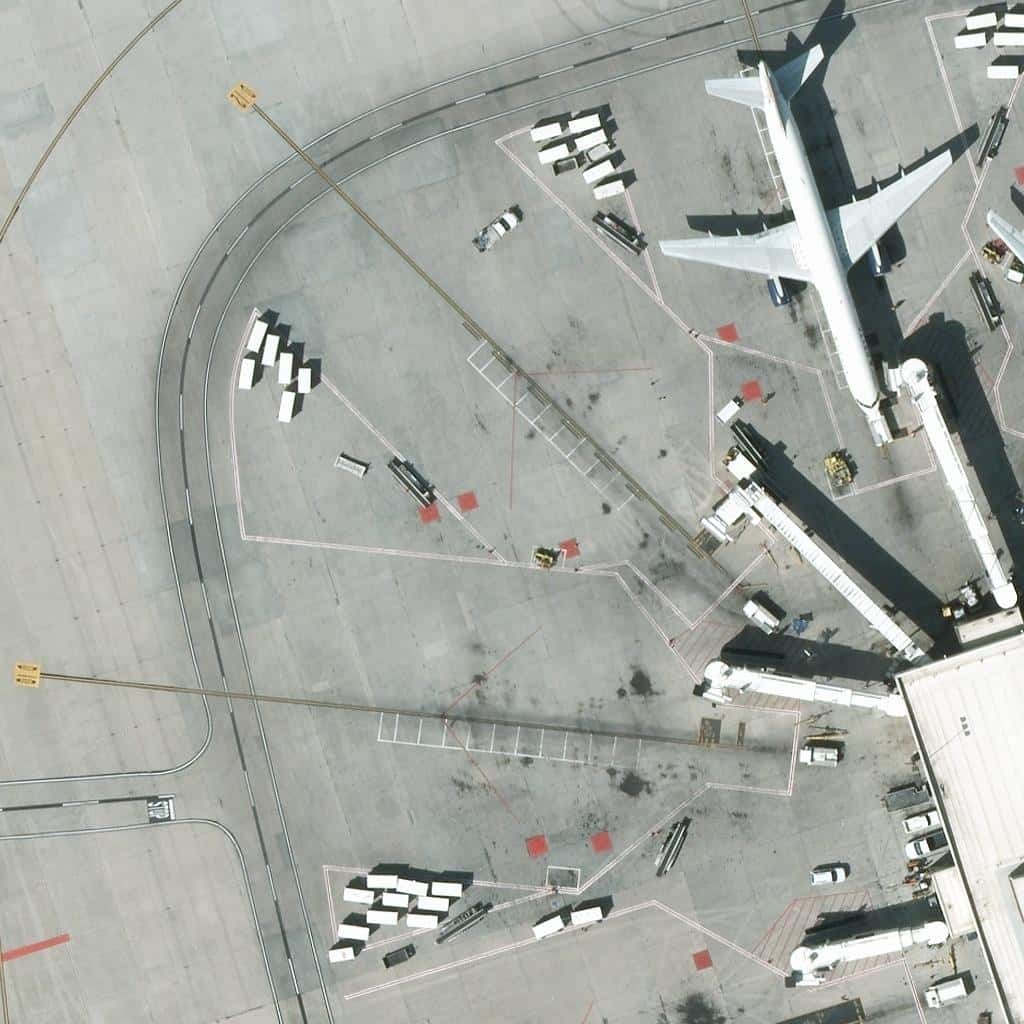plane: (656, 39, 959, 425)
